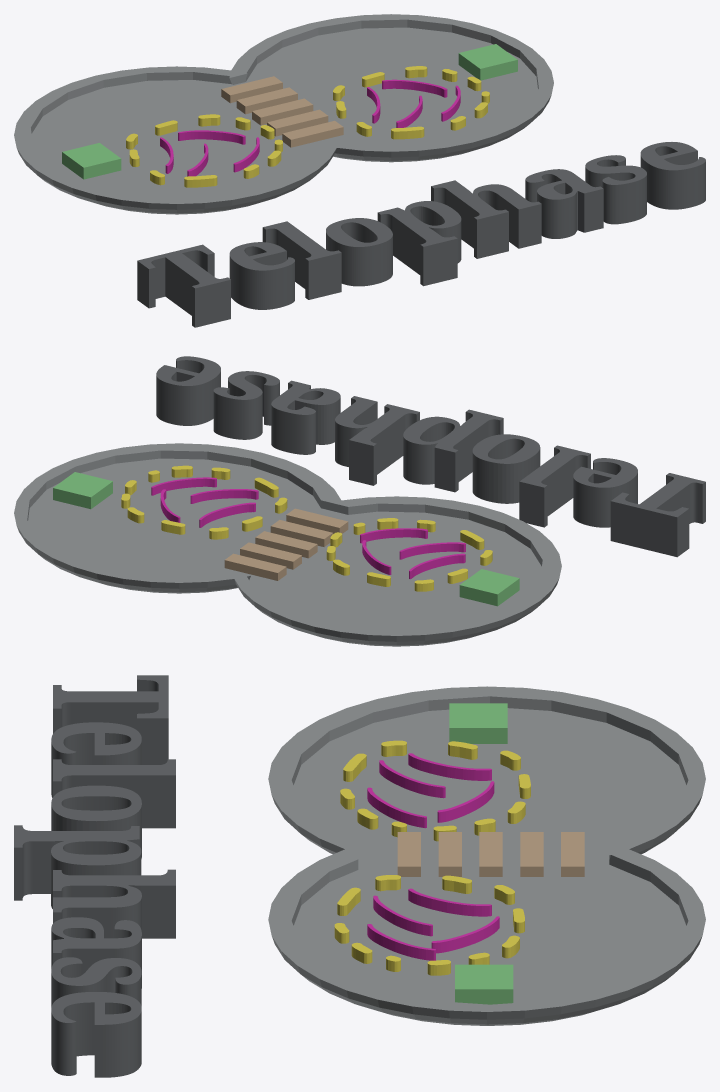
File: Telophase.glb
3 views of the same model, one above another, from view 1: azimuth 30°, elevation 25°; view 2: azimuth 150°, elevation 25°; view 3: azimuth 270°, elevation 25° (orthographic). The views are drawn at different scales.
Visible parts, largest first — view 1: Mesh_Mesh_head_geo.001_lambert2SG.001; view 2: Mesh_Mesh_head_geo.001_lambert2SG.001; view 3: Mesh_Mesh_head_geo.001_lambert2SG.001.
Boxes of the visible parts, x1,y1,x2,y2 form: Mesh_Mesh_head_geo.001_lambert2SG.001: (14, 14, 705, 327); Mesh_Mesh_head_geo.001_lambert2SG.001: (14, 356, 705, 646); Mesh_Mesh_head_geo.001_lambert2SG.001: (14, 675, 705, 1077).
Size of the model in its own units: 142 by 11 by 119.
